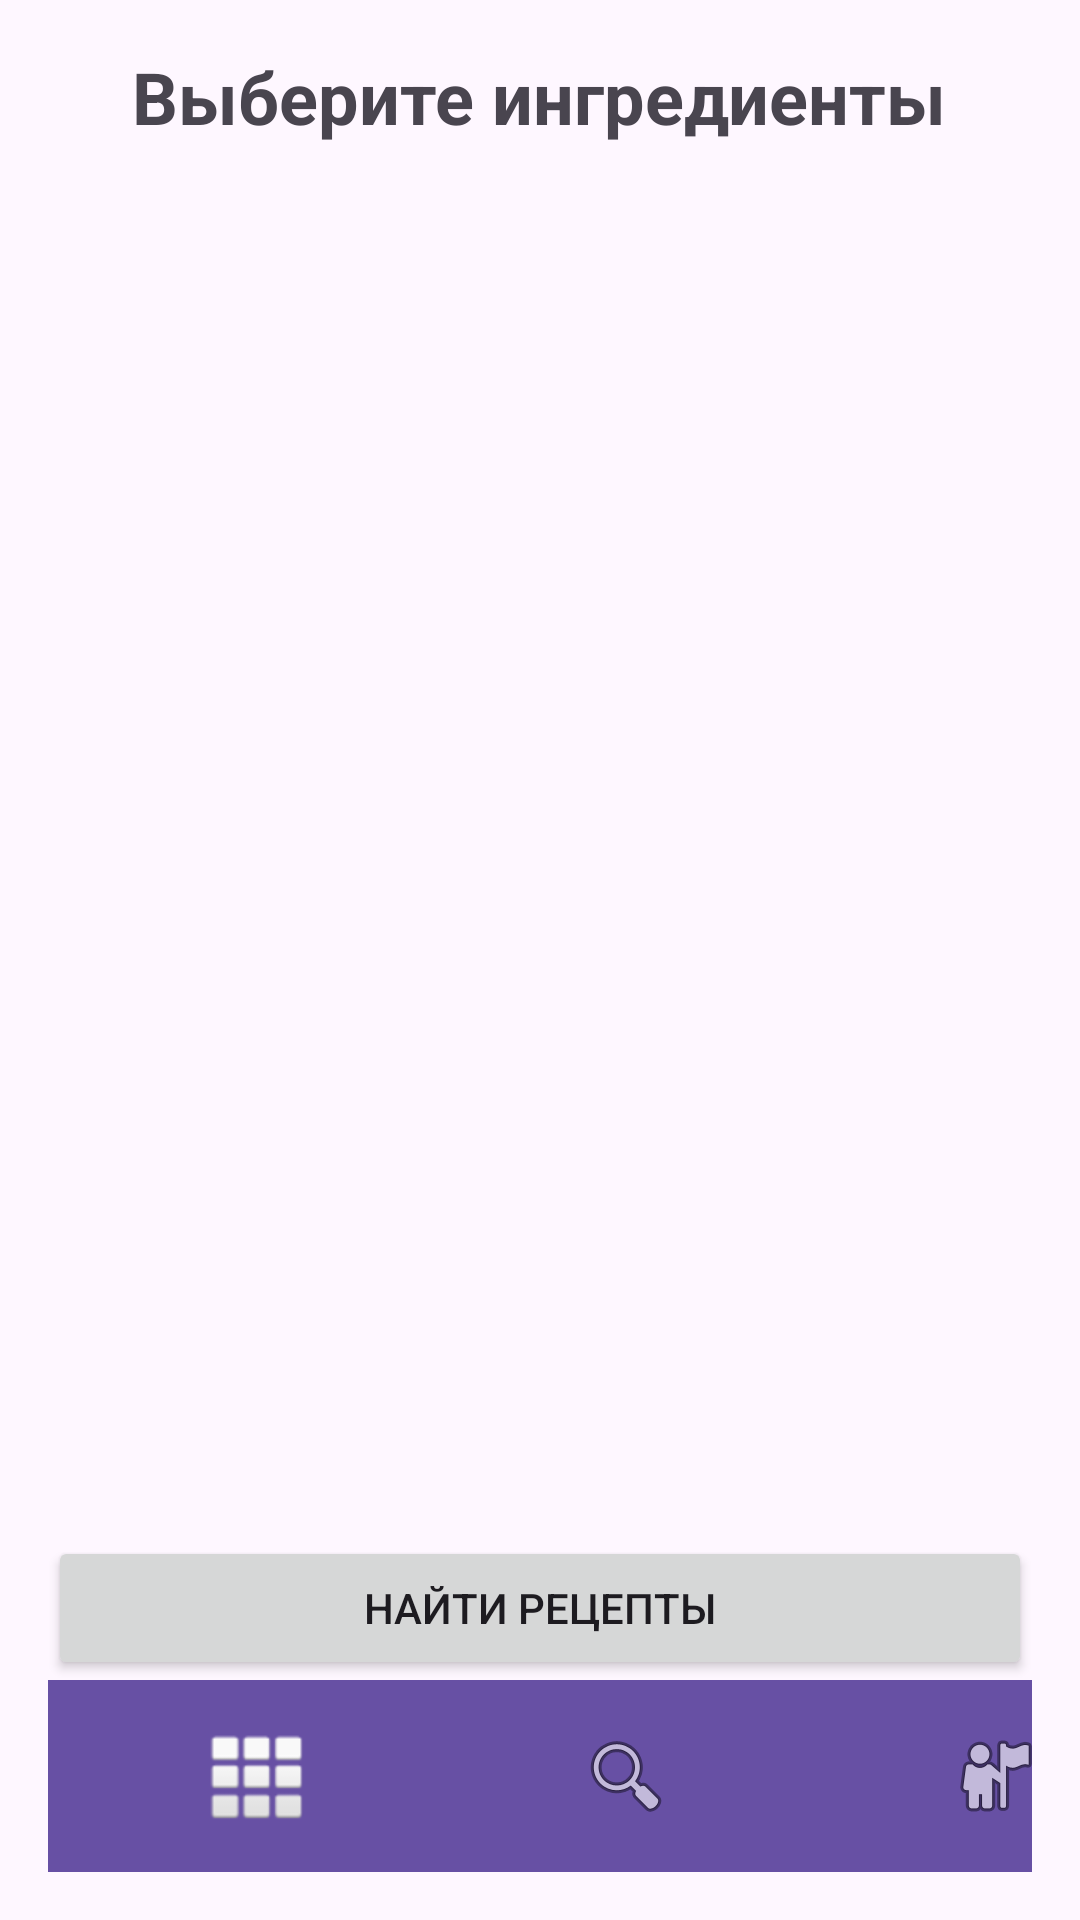

Locate icon controls on the screen. Image size 1080*1920, boxes as (x1, y1, x2, y2).
dialer: (211, 1736, 302, 1818)
search: (591, 1741, 661, 1812)
